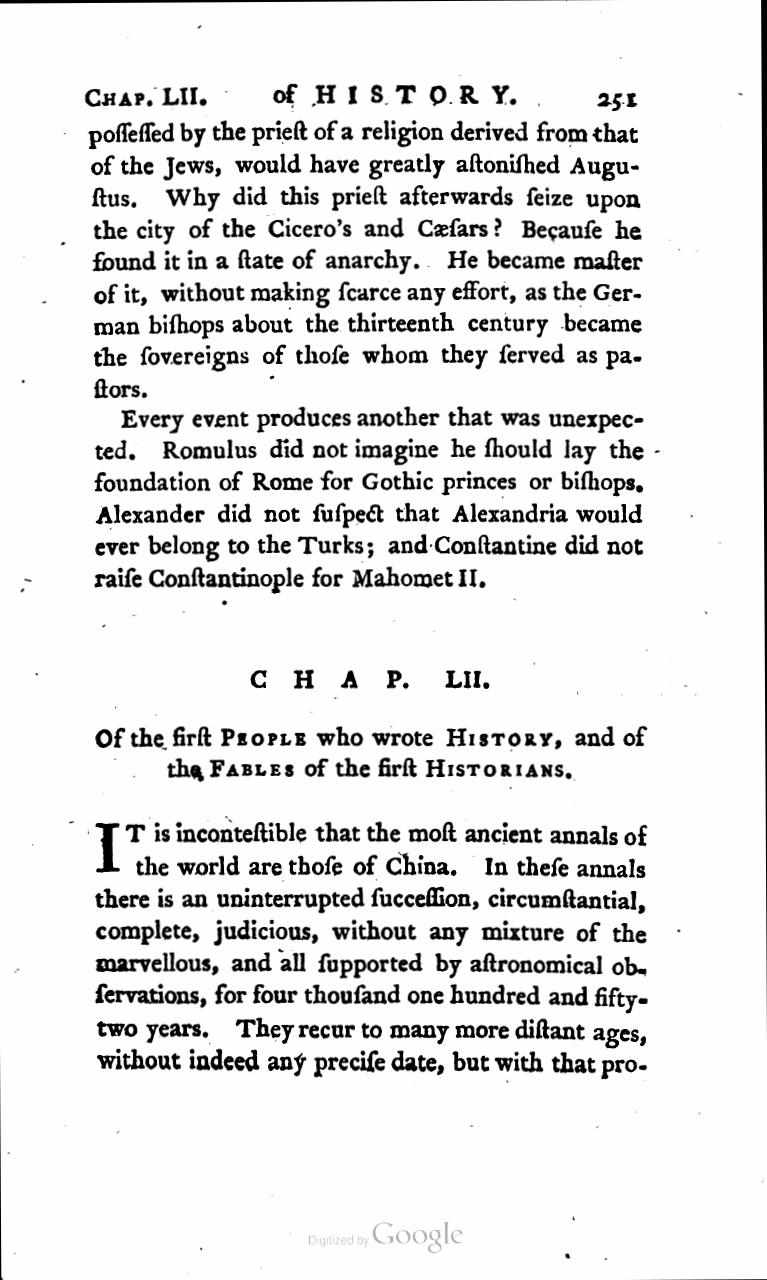bottom_p: (83, 118, 652, 405)
full_p: (85, 405, 650, 598), (95, 720, 652, 787), (242, 658, 497, 700)
header: (75, 78, 520, 113)
initial_l: (93, 820, 128, 877)
page_num: (593, 83, 642, 117)
top_p: (93, 820, 657, 1082)
